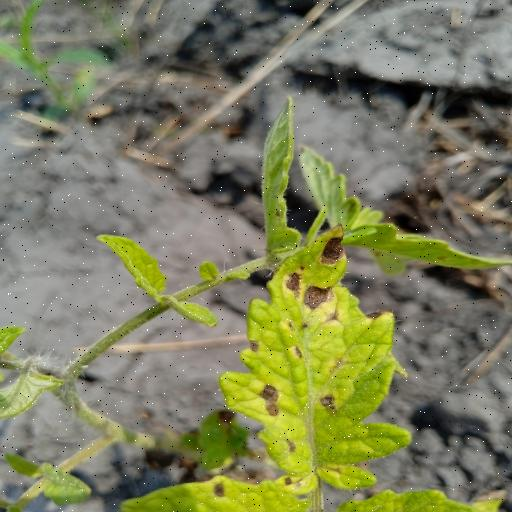Tomato_Brown_Spots: (214, 260, 414, 506)
